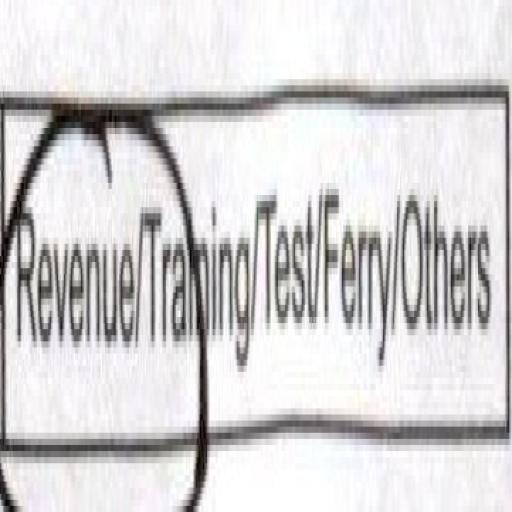check: (2, 53, 146, 512)
